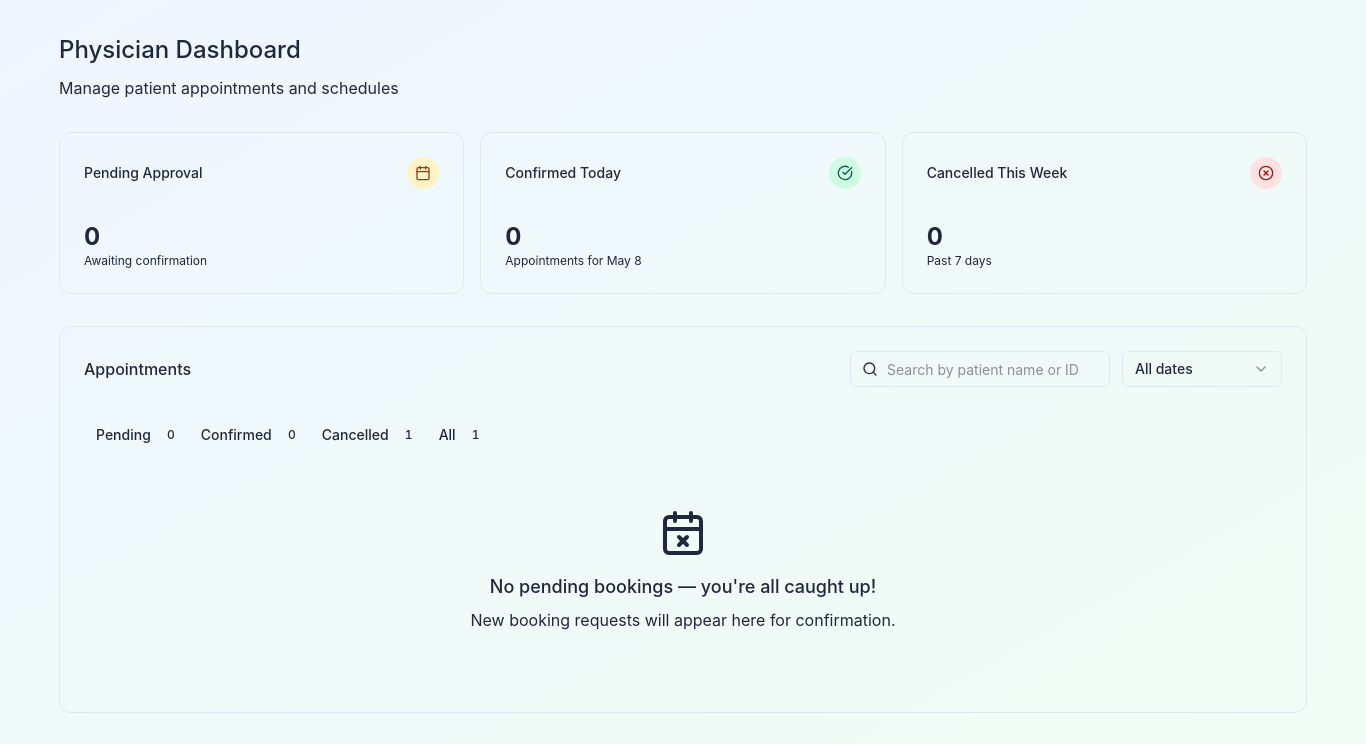
it: AdminView › a cancelled booking offers no Confirm action — re-confirmation is not allowed
Click the tab "Cancelled 1" at (371, 435), box [313,420,430,450]
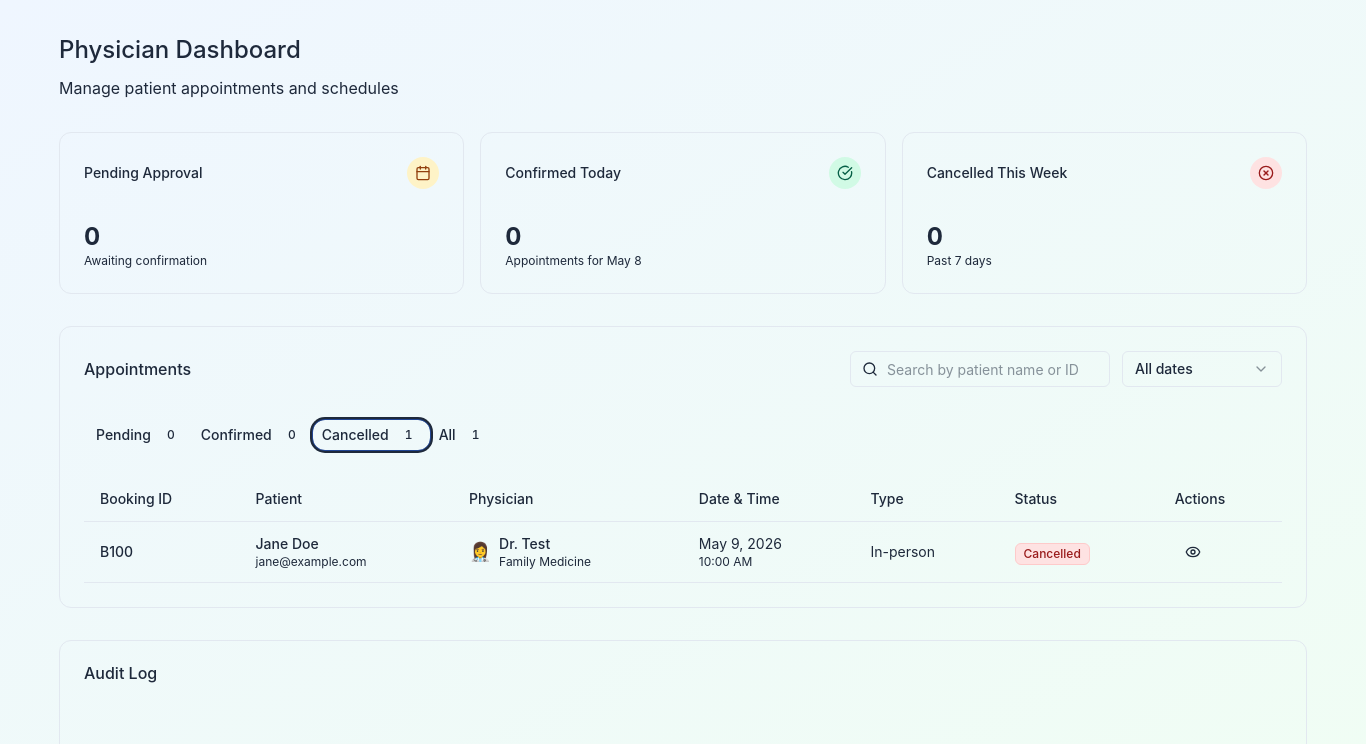
Check: the cell "B100" is shown, box [84,522,240,582]
Check: the button named "view details for booking B100" is shown, box [1175,536,1211,568]
